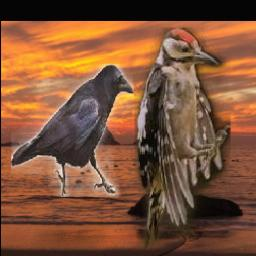Crow: (11, 64, 134, 197)
Woodpecker: (135, 28, 231, 248)
